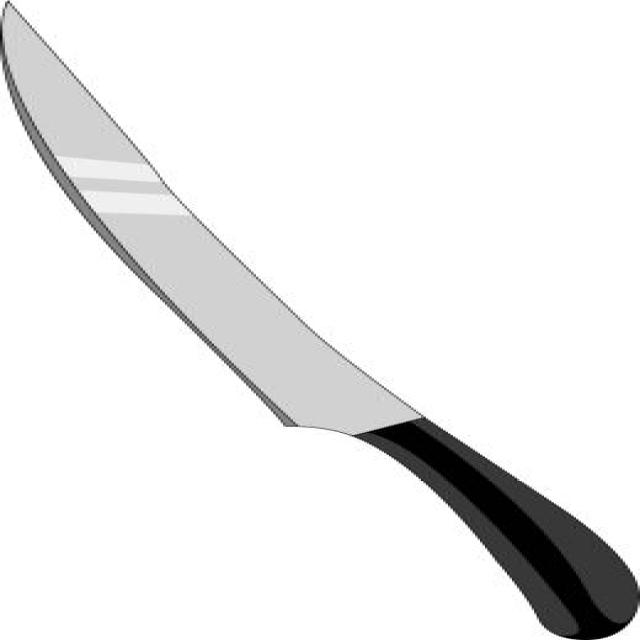knife: (1, 1, 640, 639)
